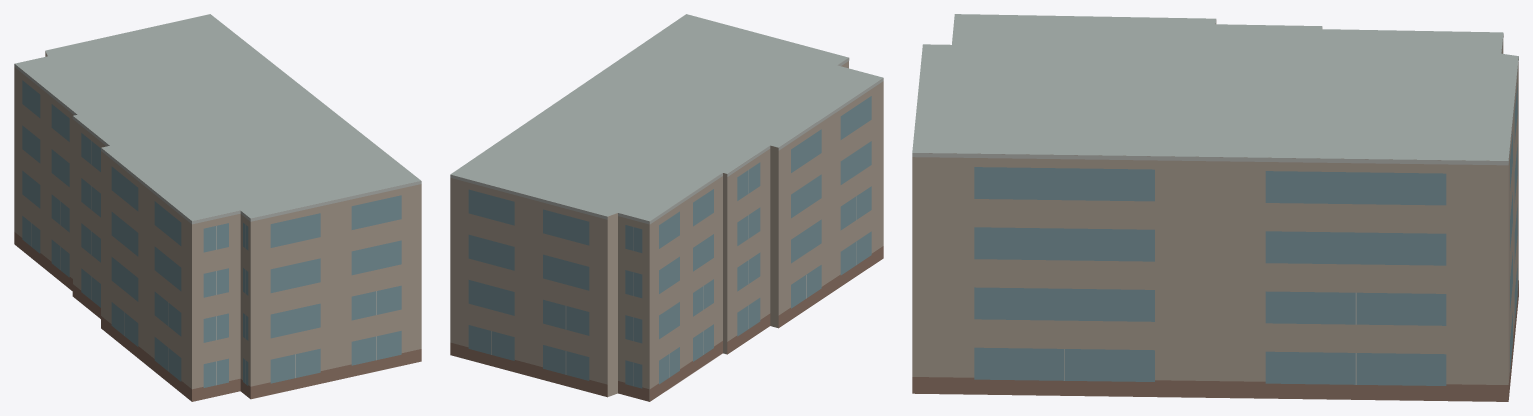
Rendered from survey-upis-33031604.glb.
3 views of the same model, side by side, from view 1: azimuth 30°, elevation 25°; view 2: azimuth 150°, elevation 25°; view 3: azimuth 270°, elevation 25° (orthographic). The views are drawn at different scales.
Visible parts, largest first — view 1: survey-upis-33031604.tmp; view 2: survey-upis-33031604.tmp; view 3: survey-upis-33031604.tmp.
Part boxes in pixels (<box>): survey-upis-33031604.tmp: <box>14,14,421,401</box>; survey-upis-33031604.tmp: <box>450,14,883,401</box>; survey-upis-33031604.tmp: <box>912,14,1518,401</box>.
Size of the model in its own units: 18.08 by 13.8 by 31.51.
